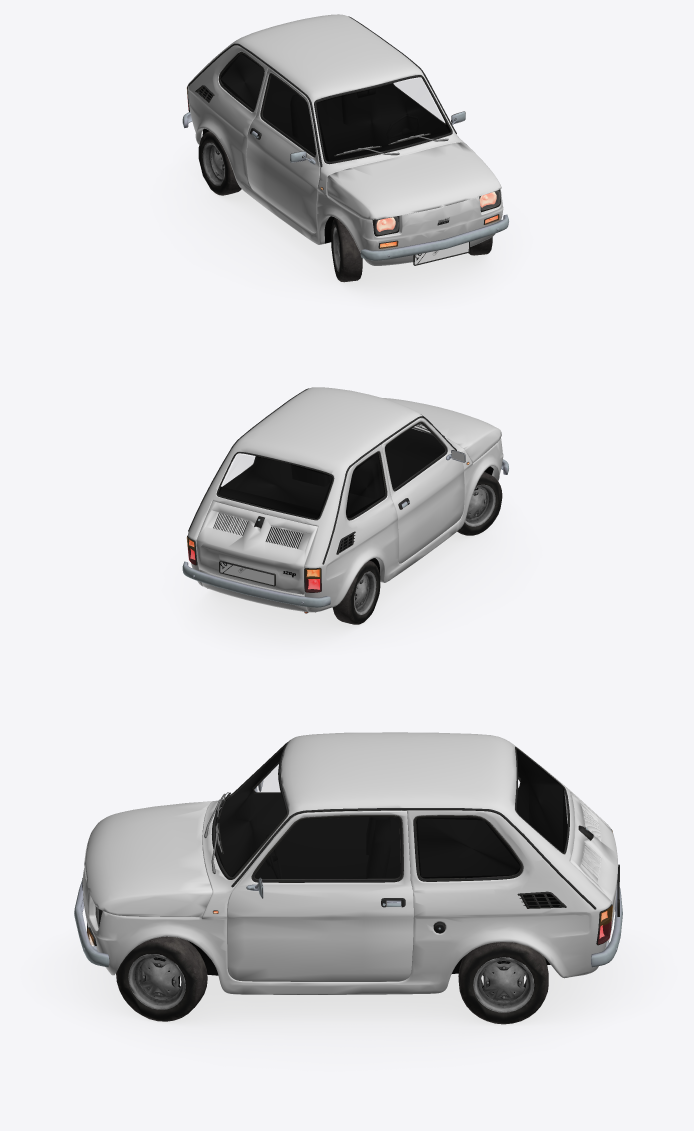
Rendered from fiat126p.gltf.
3 renders of one model, top to bottom at view 1: azimuth 30°, elevation 25°; view 2: azimuth 150°, elevation 25°; view 3: azimuth 270°, elevation 25°, orthographic. The views are drawn at different scales.
Parts seen in each view (by area): view 1: Fiat_126P_1, Object_4, Fiat_126P_Wheel_Rear_Right_5, Fiat_126P_Wheel_Front_Right_3; view 2: Fiat_126P_1, Object_4, Fiat_126P_Wheel_Rear_Right_5, Fiat_126P_Wheel_Front_Right_3; view 3: Fiat_126P_1, Object_4, Fiat_126P_Wheel_Rear_Left_4, Fiat_126P_Wheel_Front_Left_2.
Part boxes in pixels (bbox=[...]): Fiat_126P_1: bbox=[182, 14, 508, 265]; Object_4: bbox=[179, 151, 509, 303]; Fiat_126P_Wheel_Rear_Right_5: bbox=[198, 131, 241, 195]; Fiat_126P_Wheel_Front_Right_3: bbox=[331, 218, 362, 282]; Fiat_126P_1: bbox=[182, 387, 508, 613]; Object_4: bbox=[184, 504, 512, 651]; Fiat_126P_Wheel_Rear_Right_5: bbox=[332, 560, 380, 624]; Fiat_126P_Wheel_Front_Right_3: bbox=[457, 472, 502, 535]; Fiat_126P_1: bbox=[74, 732, 622, 994]; Object_4: bbox=[47, 932, 650, 1050]; Fiat_126P_Wheel_Rear_Left_4: bbox=[458, 942, 548, 1024]; Fiat_126P_Wheel_Front_Left_2: bbox=[116, 936, 207, 1021].
Size of the model in its own units: 3.67 by 1.31 by 3.67.
Materials: 21 (14 with a texture image).
